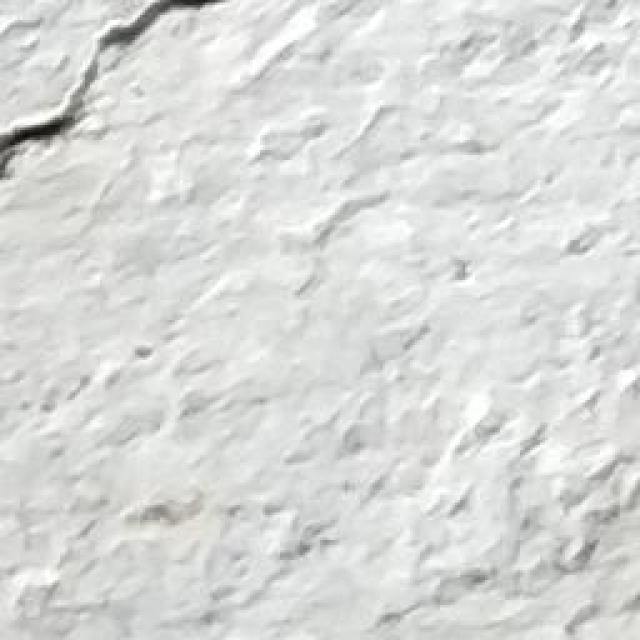Diagonal: (0, 0, 210, 184)
